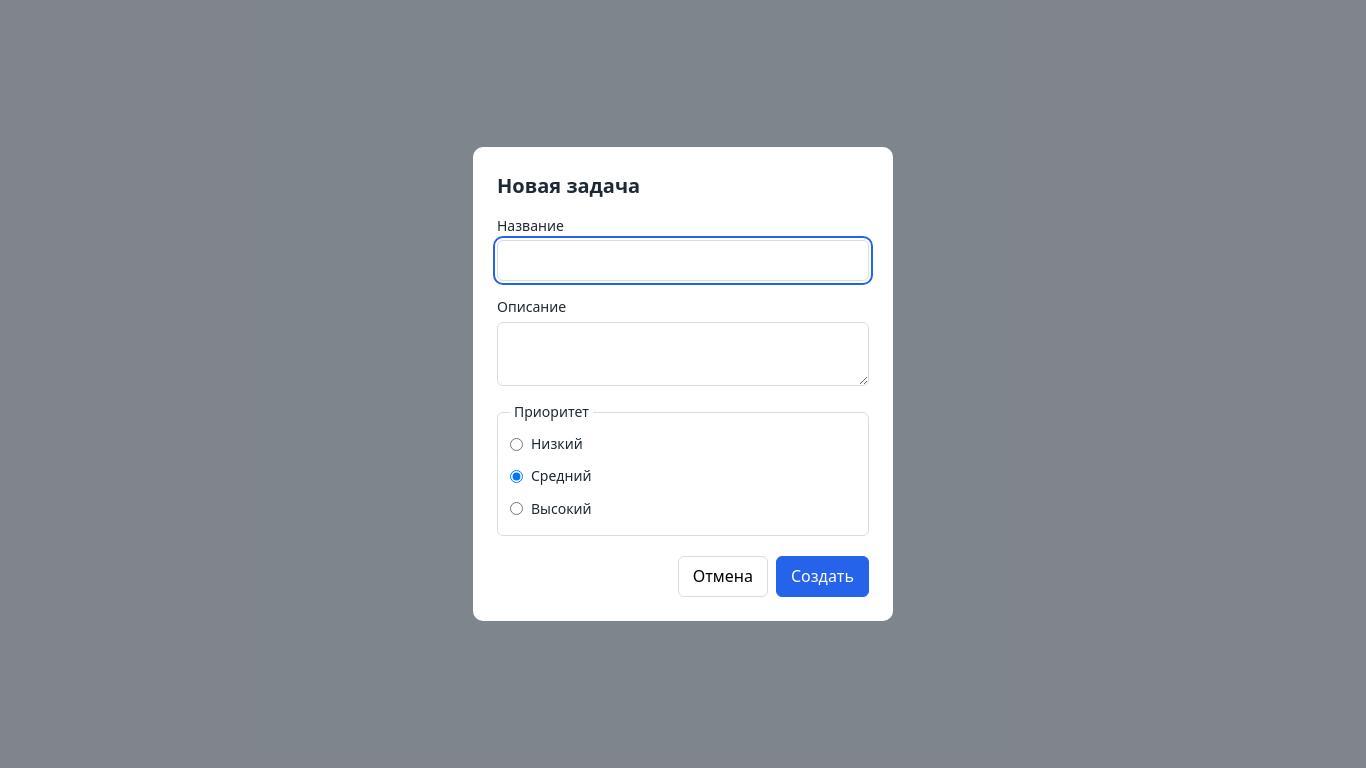
Test: TodoFormModal › не отправляет пустую форму и показывает ошибки
Click the button "Создать". click: (822, 577)
box: [776,556,869,597]
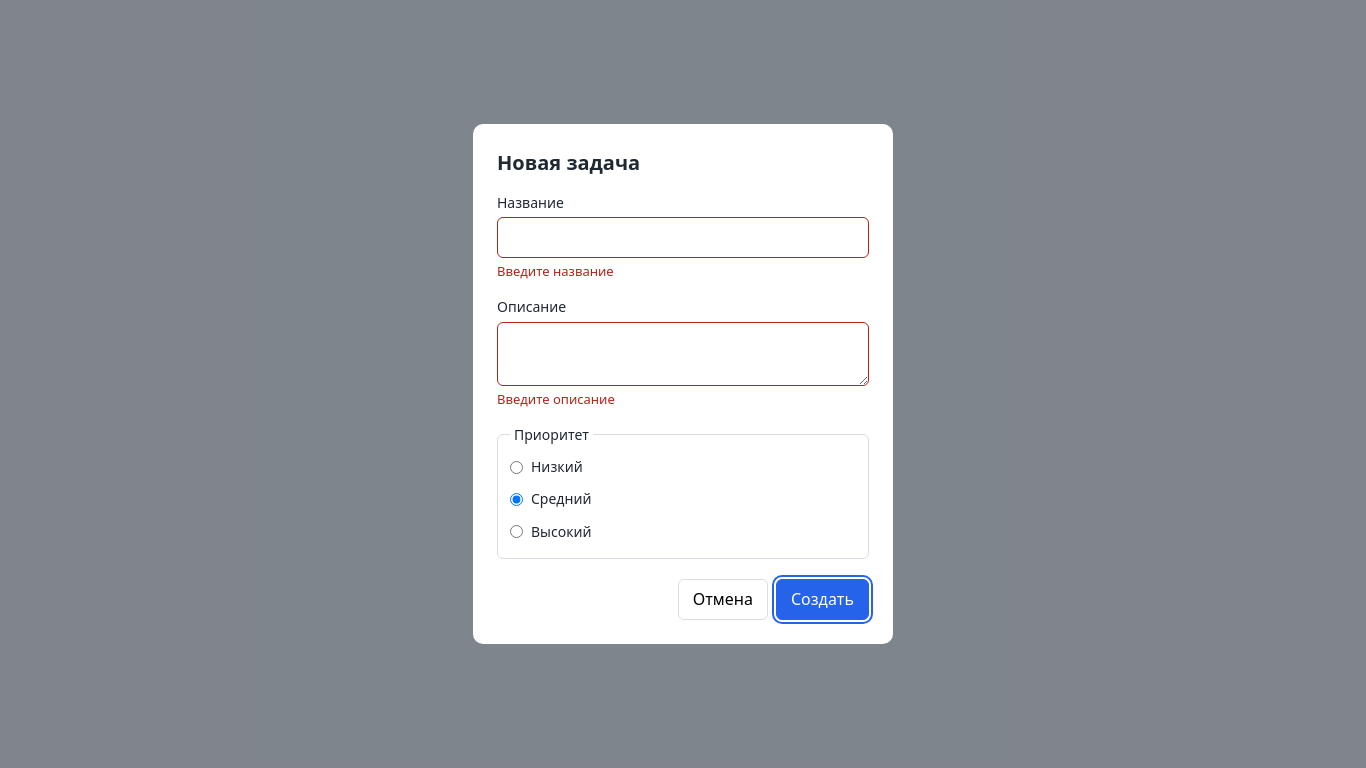
Now the text "Введите название" is shown, box [497,262,614,280]
Now the text "Введите описание" is shown, box [497,390,615,408]
